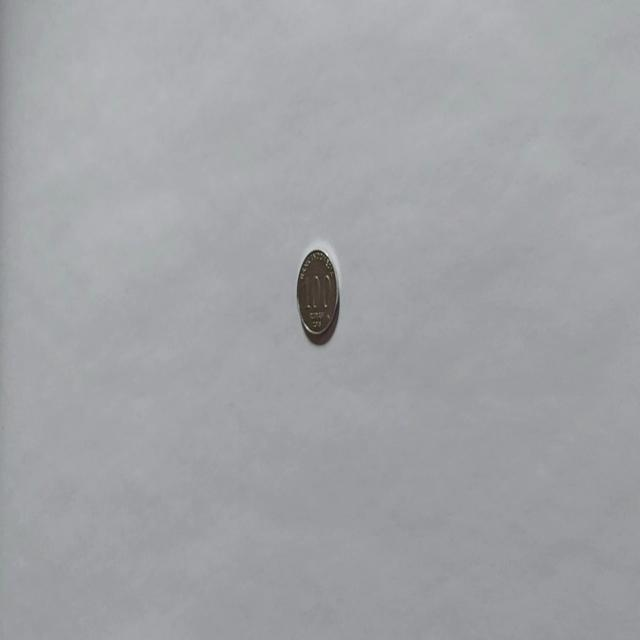seratus rupiah: (296, 246, 340, 343)
